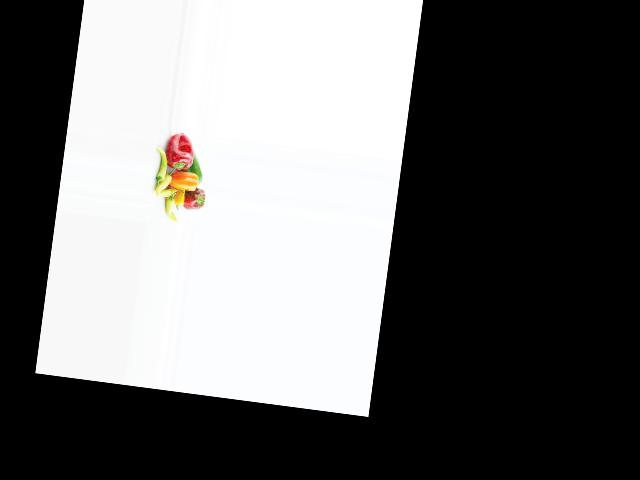bell_pepper: (152, 144, 169, 187)
